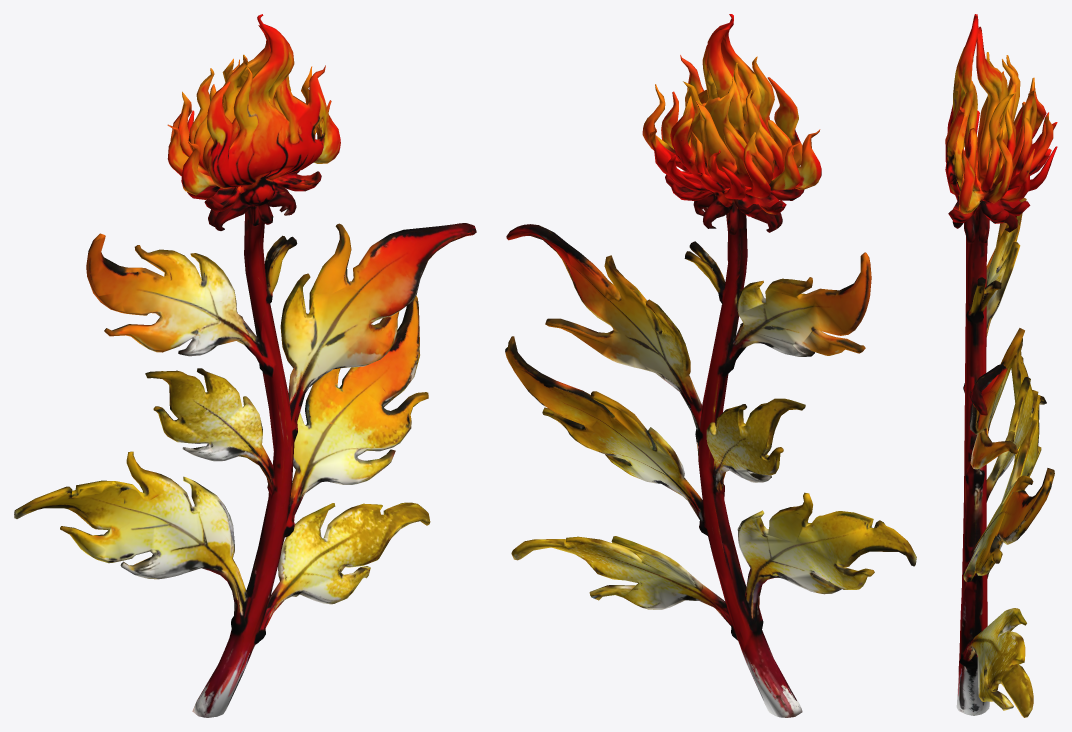
File: 凤凰草.glb
3 renders of one model, left to right at view 1: azimuth 30°, elevation 25°; view 2: azimuth 150°, elevation 25°; view 3: azimuth 270°, elevation 25°, orthographic. The views are drawn at different scales.
Visible parts, largest first — view 1: node_0; view 2: node_0; view 3: node_0.
Boxes of the visible parts, x1,y1,x2,y2 form: node_0: (14,14,476,717); node_0: (505,14,916,717); node_0: (945,14,1057,717).
Size of the model in its own units: 0.7801 by 1.17 by 0.1653.
1 material, 1 textured.
